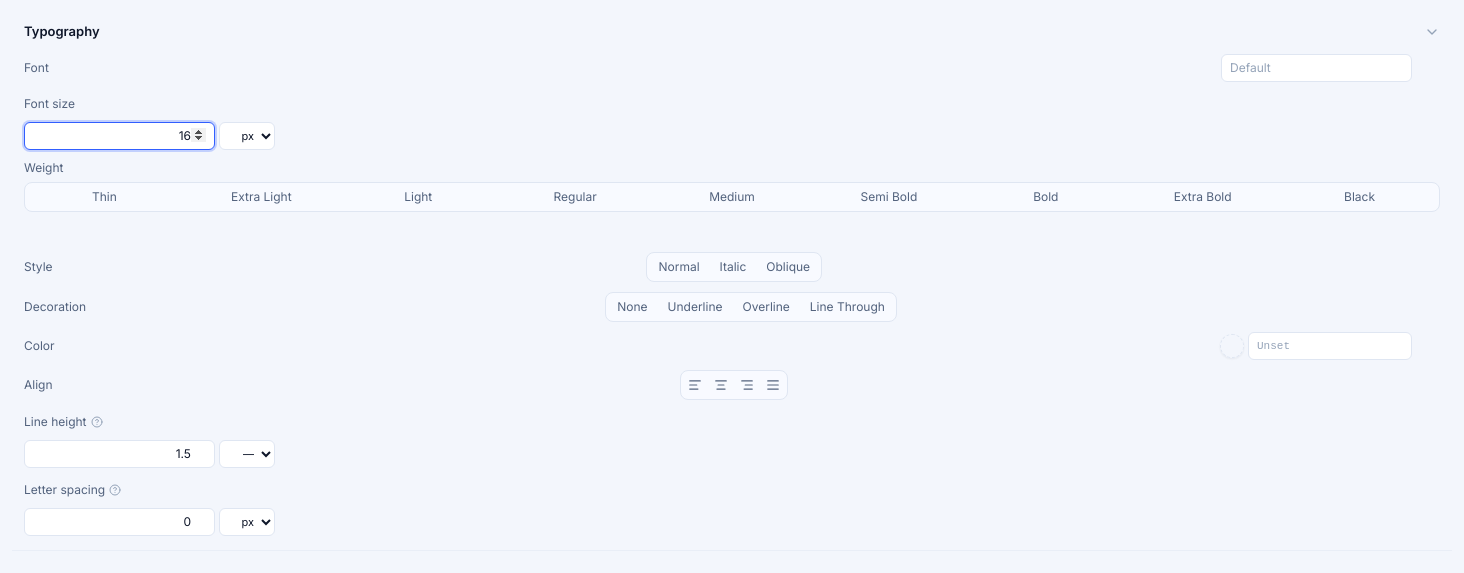
Test: live numeric editing (BC-01.3) › an invalid final draft reverts the whole edit instead of keeping an intermediate preview
The image size is (1464, 573).
Replace the text in the number field named "Font size" with "24" at coordinates (120, 136), box [24,122,215,150]
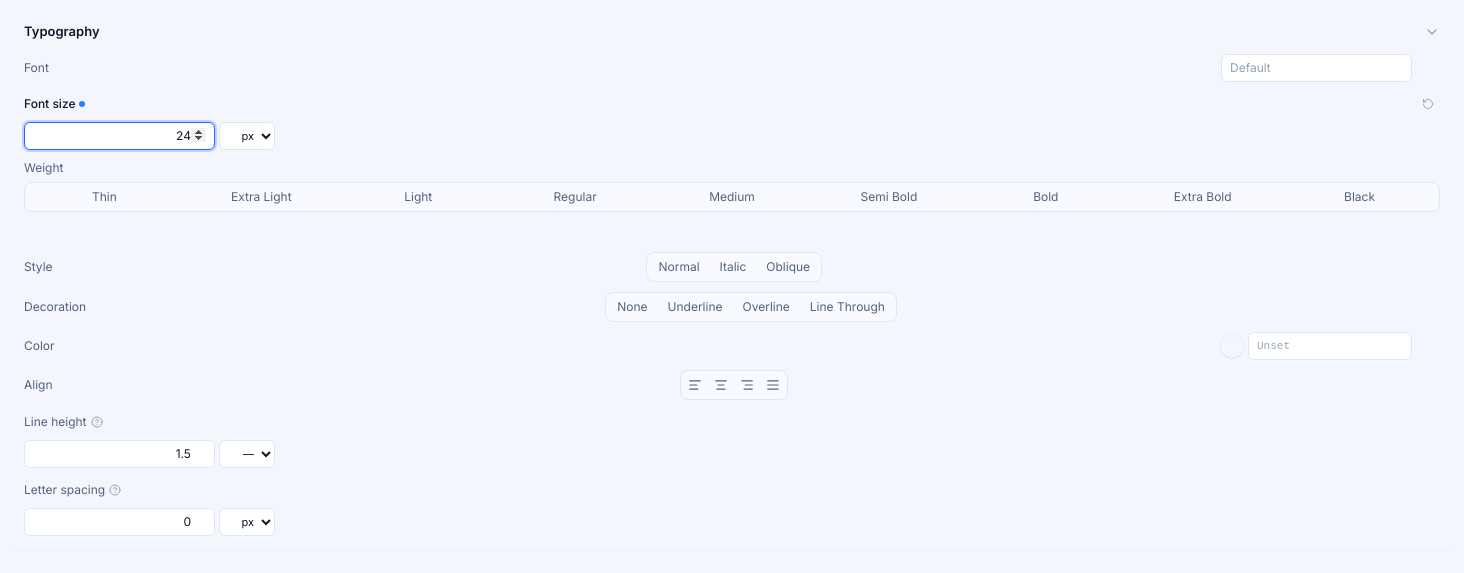
Replace the text in the number field named "Font size" with "-5" at coordinates (120, 136), box [24,122,215,150]
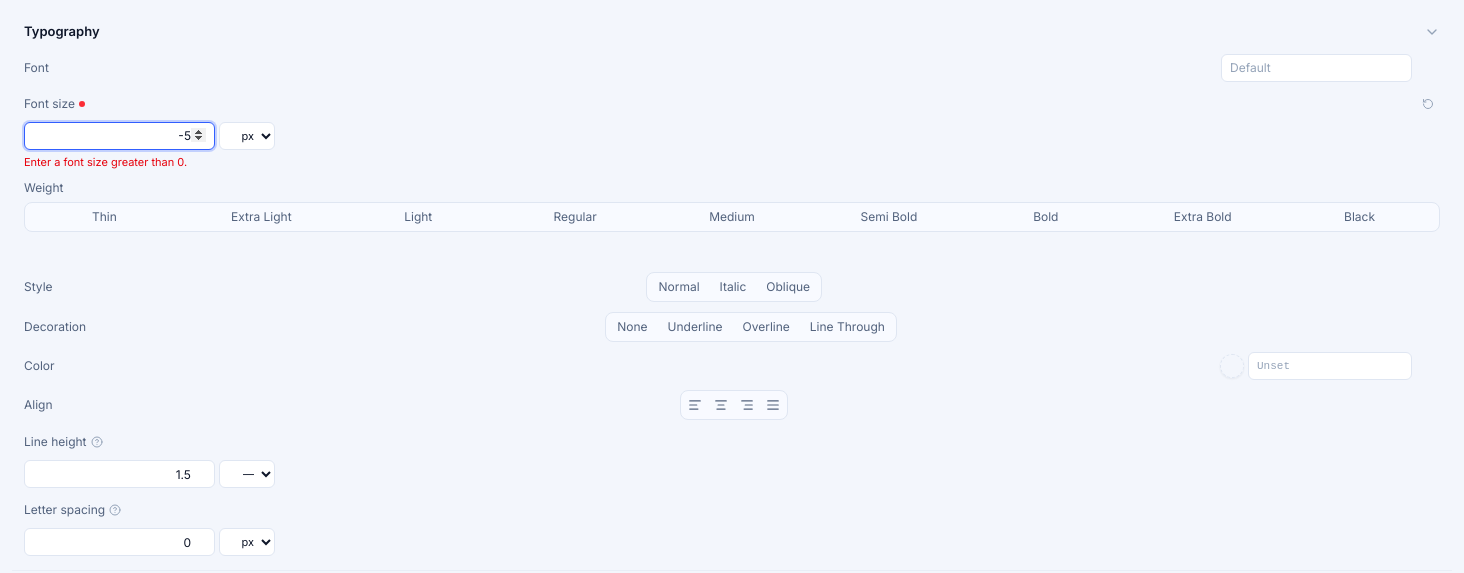
Press Enter in the number field named "Font size", box [24,122,215,150]
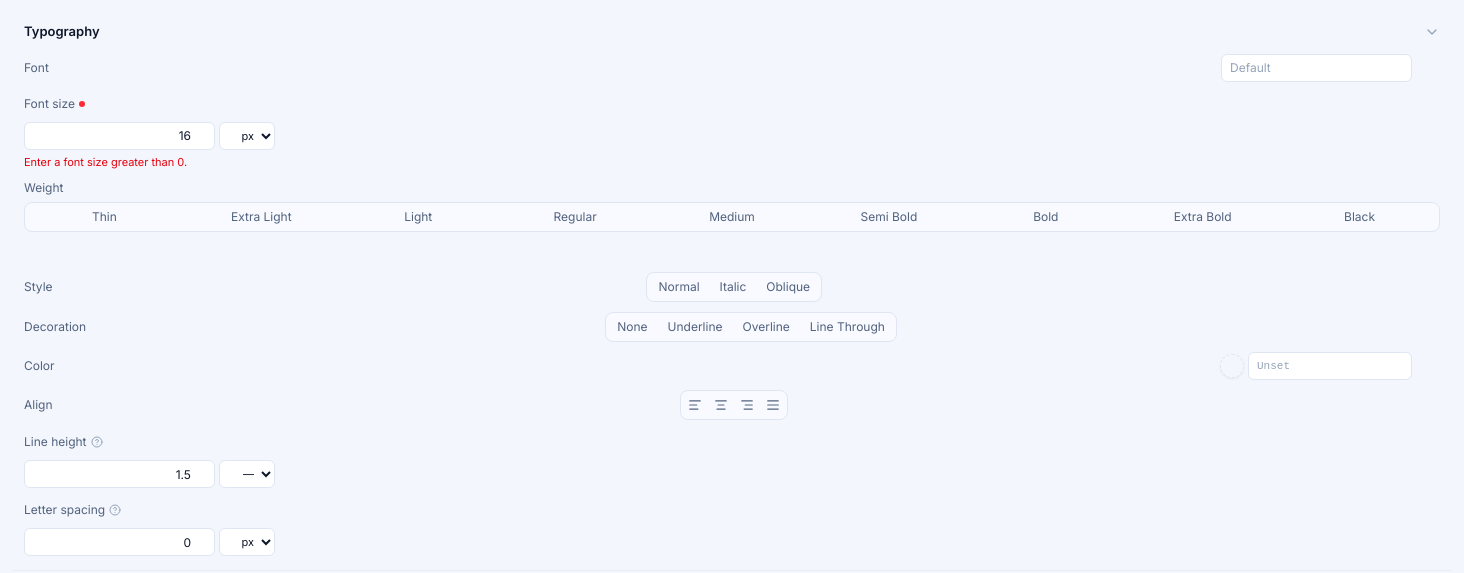
expect the message reads "Enter a font size greater than 0.": met, box [24,154,187,168]
expect the number field named "Font size" holds "16": met, box [24,122,215,150]
